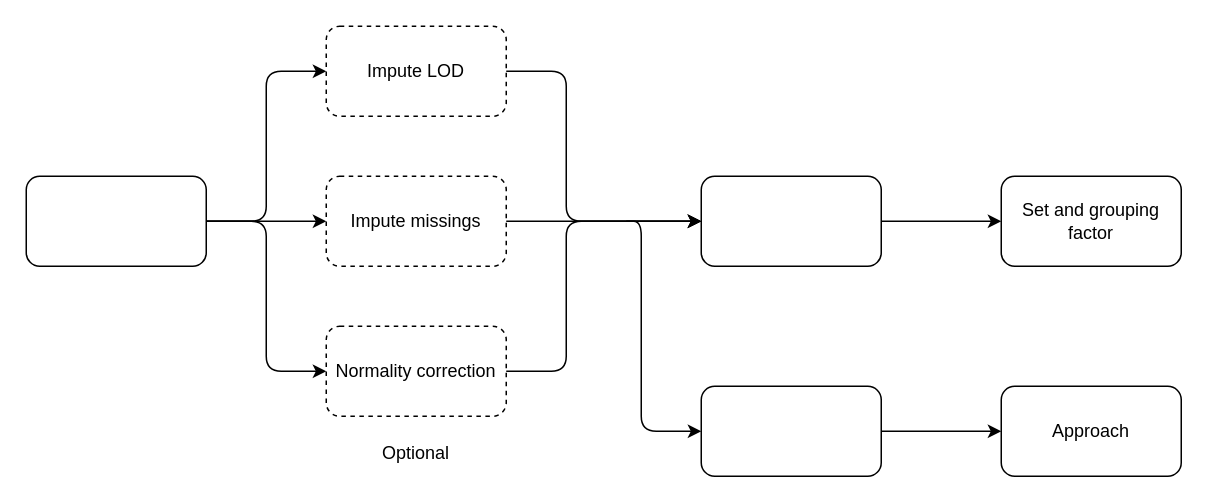
Image size: 1208x503. Some labels were removed from this diagram. Each missing label, with the centre of its shape:
Load data: (115,220)
PCA association with exposures: (790,430)
PCA Visualization: (790,220)
